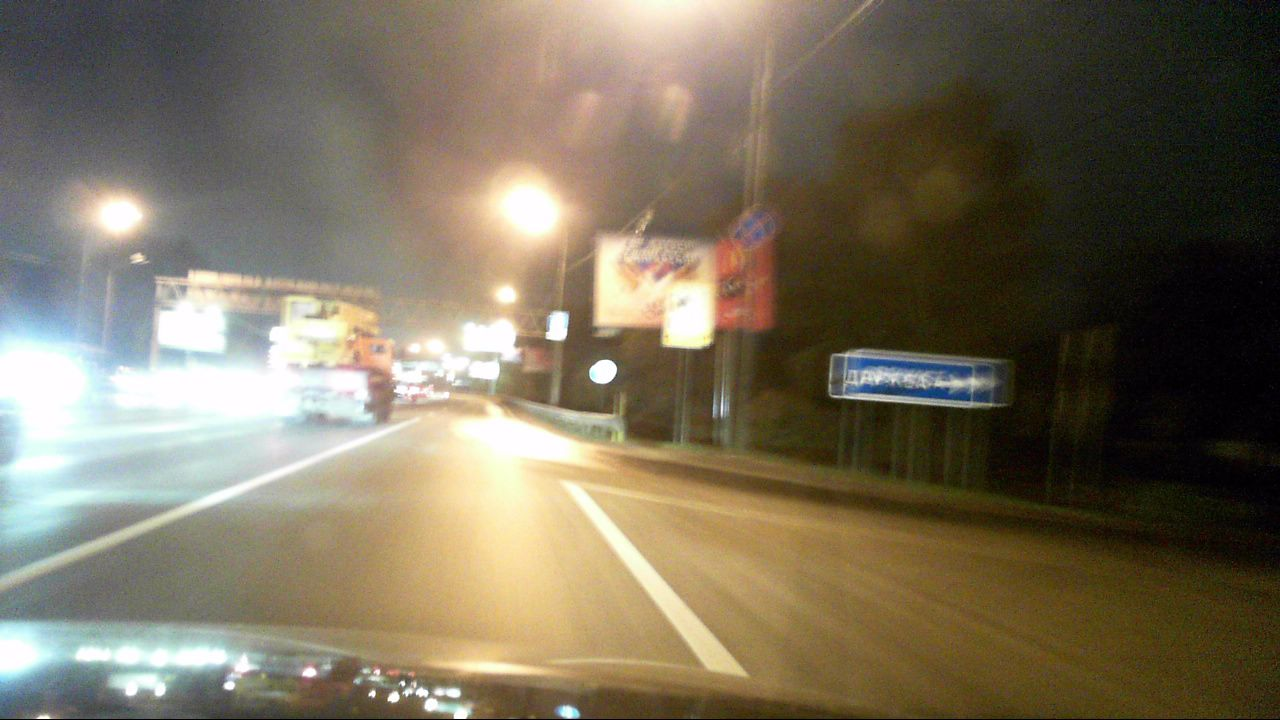No Parking: (739, 210, 773, 242)
